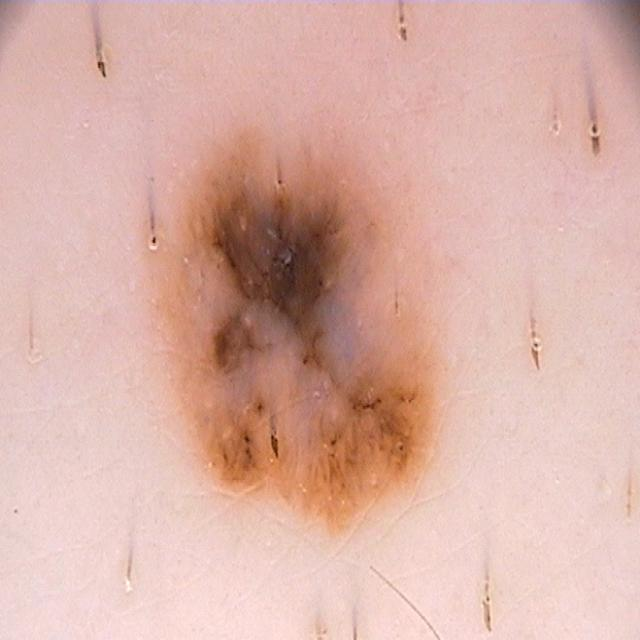Melanoma: (149, 150, 462, 559)
